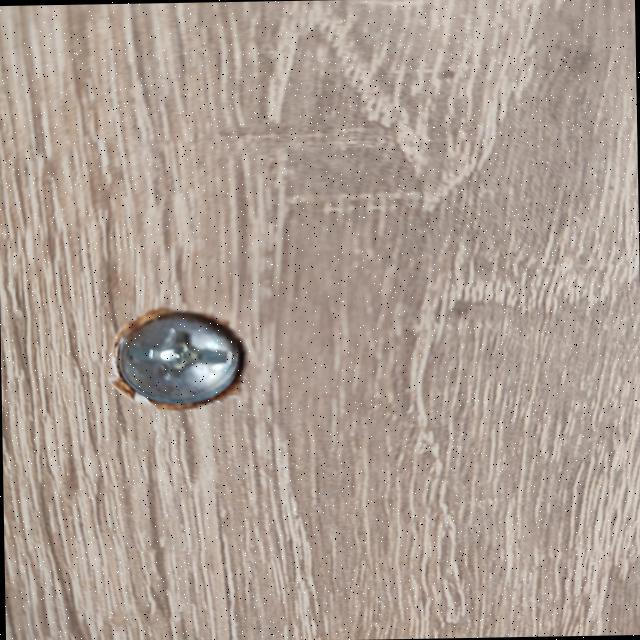Phillips: (94, 305, 253, 420)
